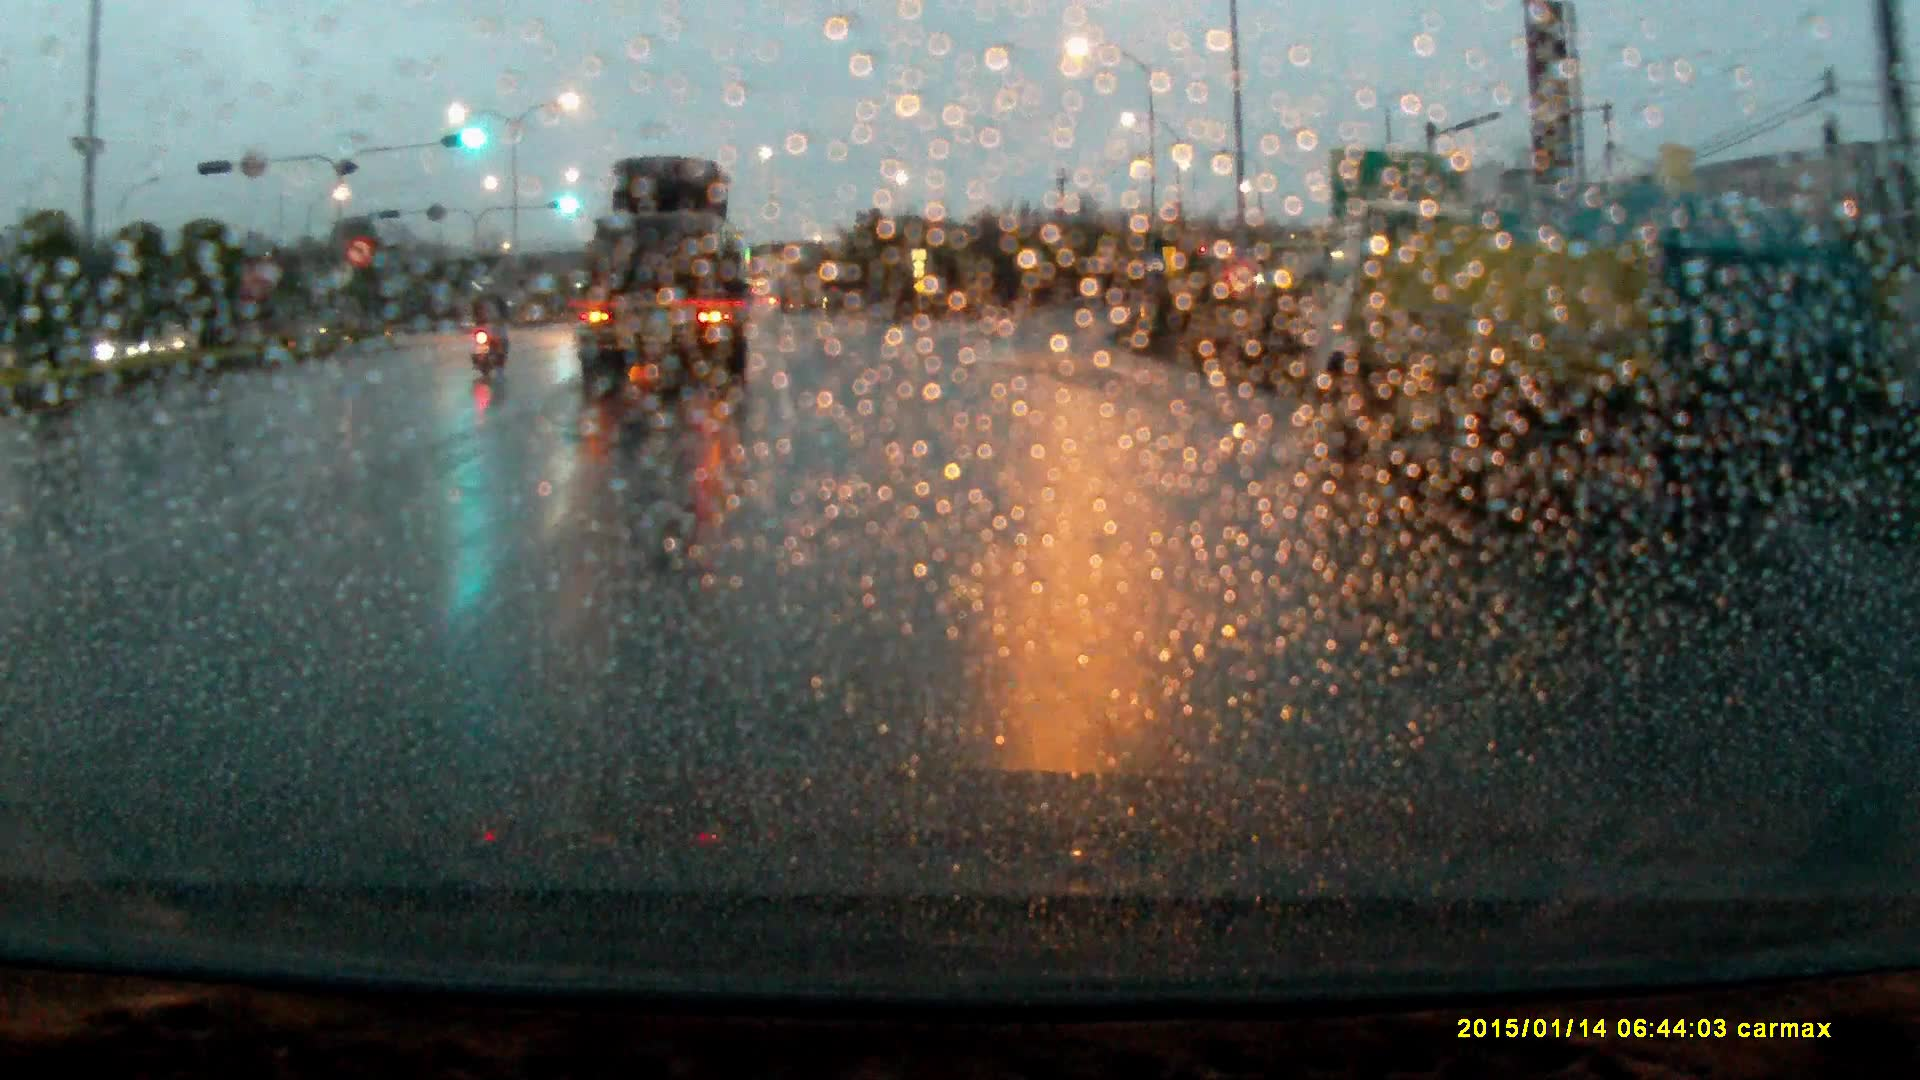rider: (466, 277, 514, 387)
vehicle: (1304, 188, 1860, 538), (571, 156, 752, 403)
